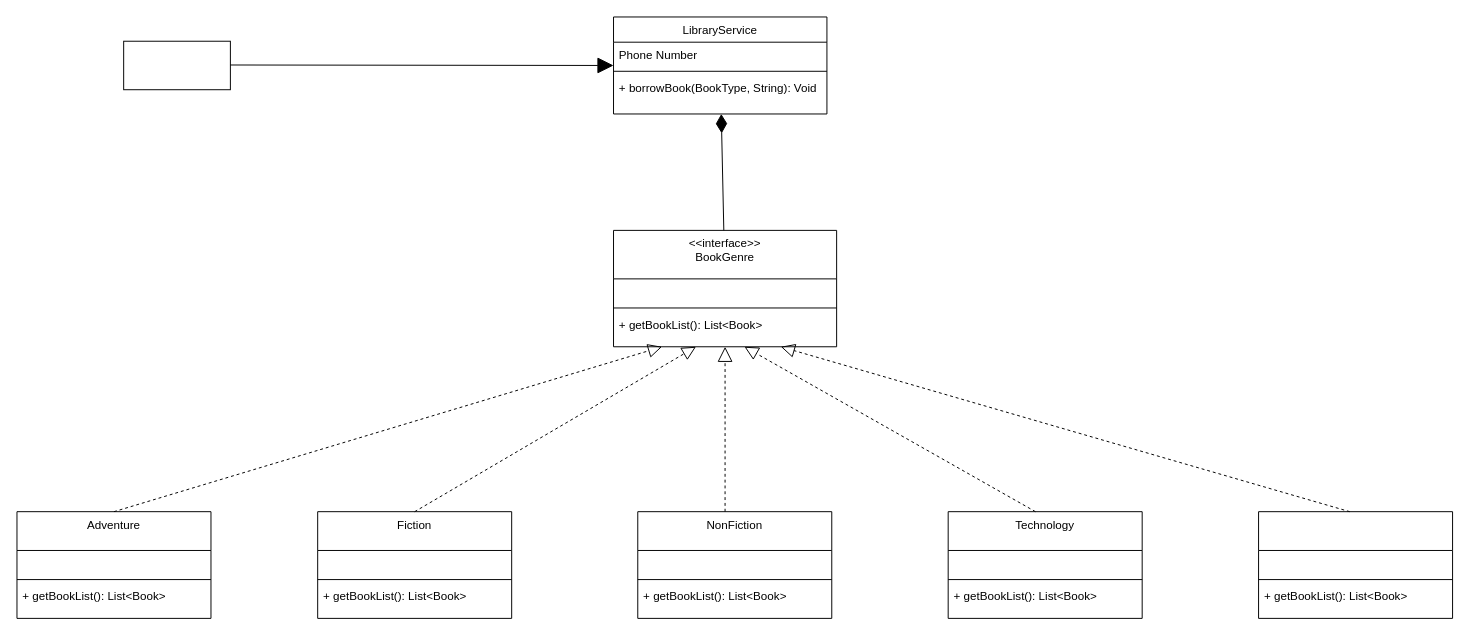
The diagram is 1470 pixels wide and 635 high, and some of its shapes have lost their labels. Each missing label, with the box of its shape:
Biography: (1258, 511, 1453, 618)
Client: (123, 40, 230, 90)
